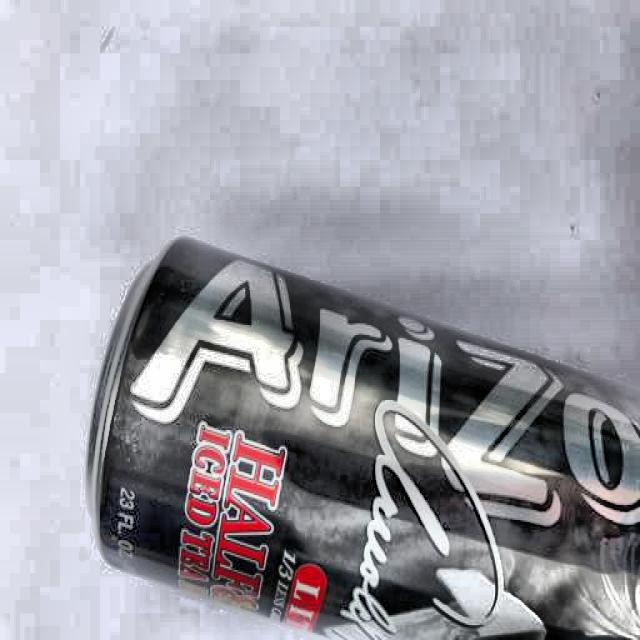metal: (87, 235, 640, 640)
